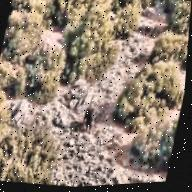boar: (80, 99, 103, 139)
